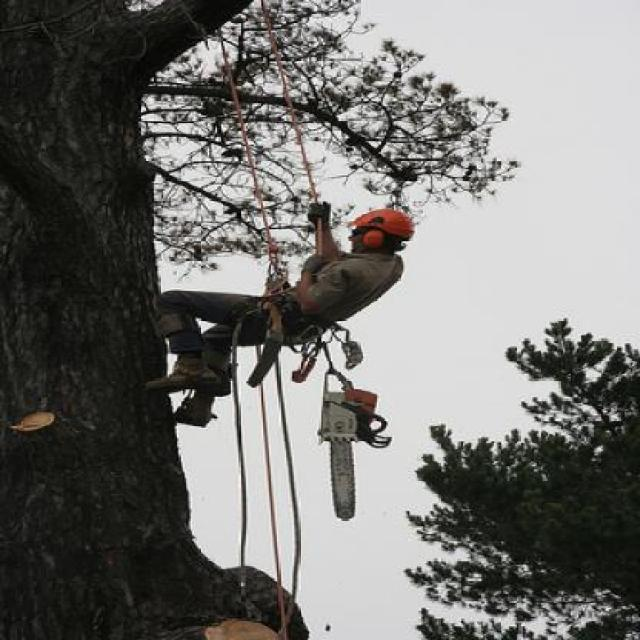Chainsaw: (313, 361, 398, 522)
